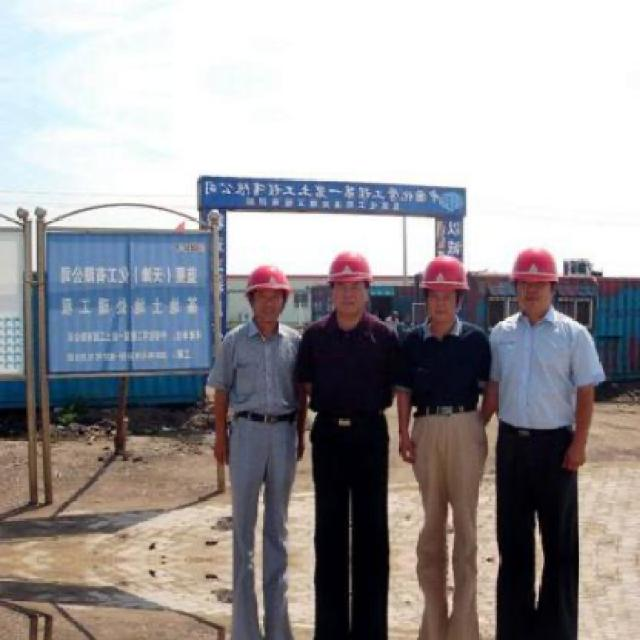con casco: (402, 250, 501, 354), (228, 241, 291, 352), (324, 222, 382, 339), (505, 245, 570, 348)
